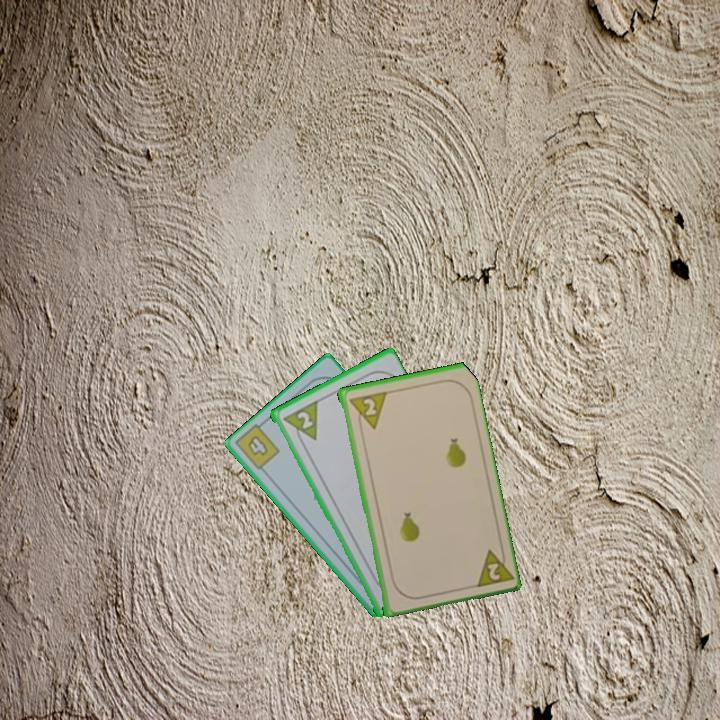2p: (278, 397, 320, 449), (470, 542, 514, 590), (345, 388, 388, 434)
4b: (243, 431, 271, 459)
